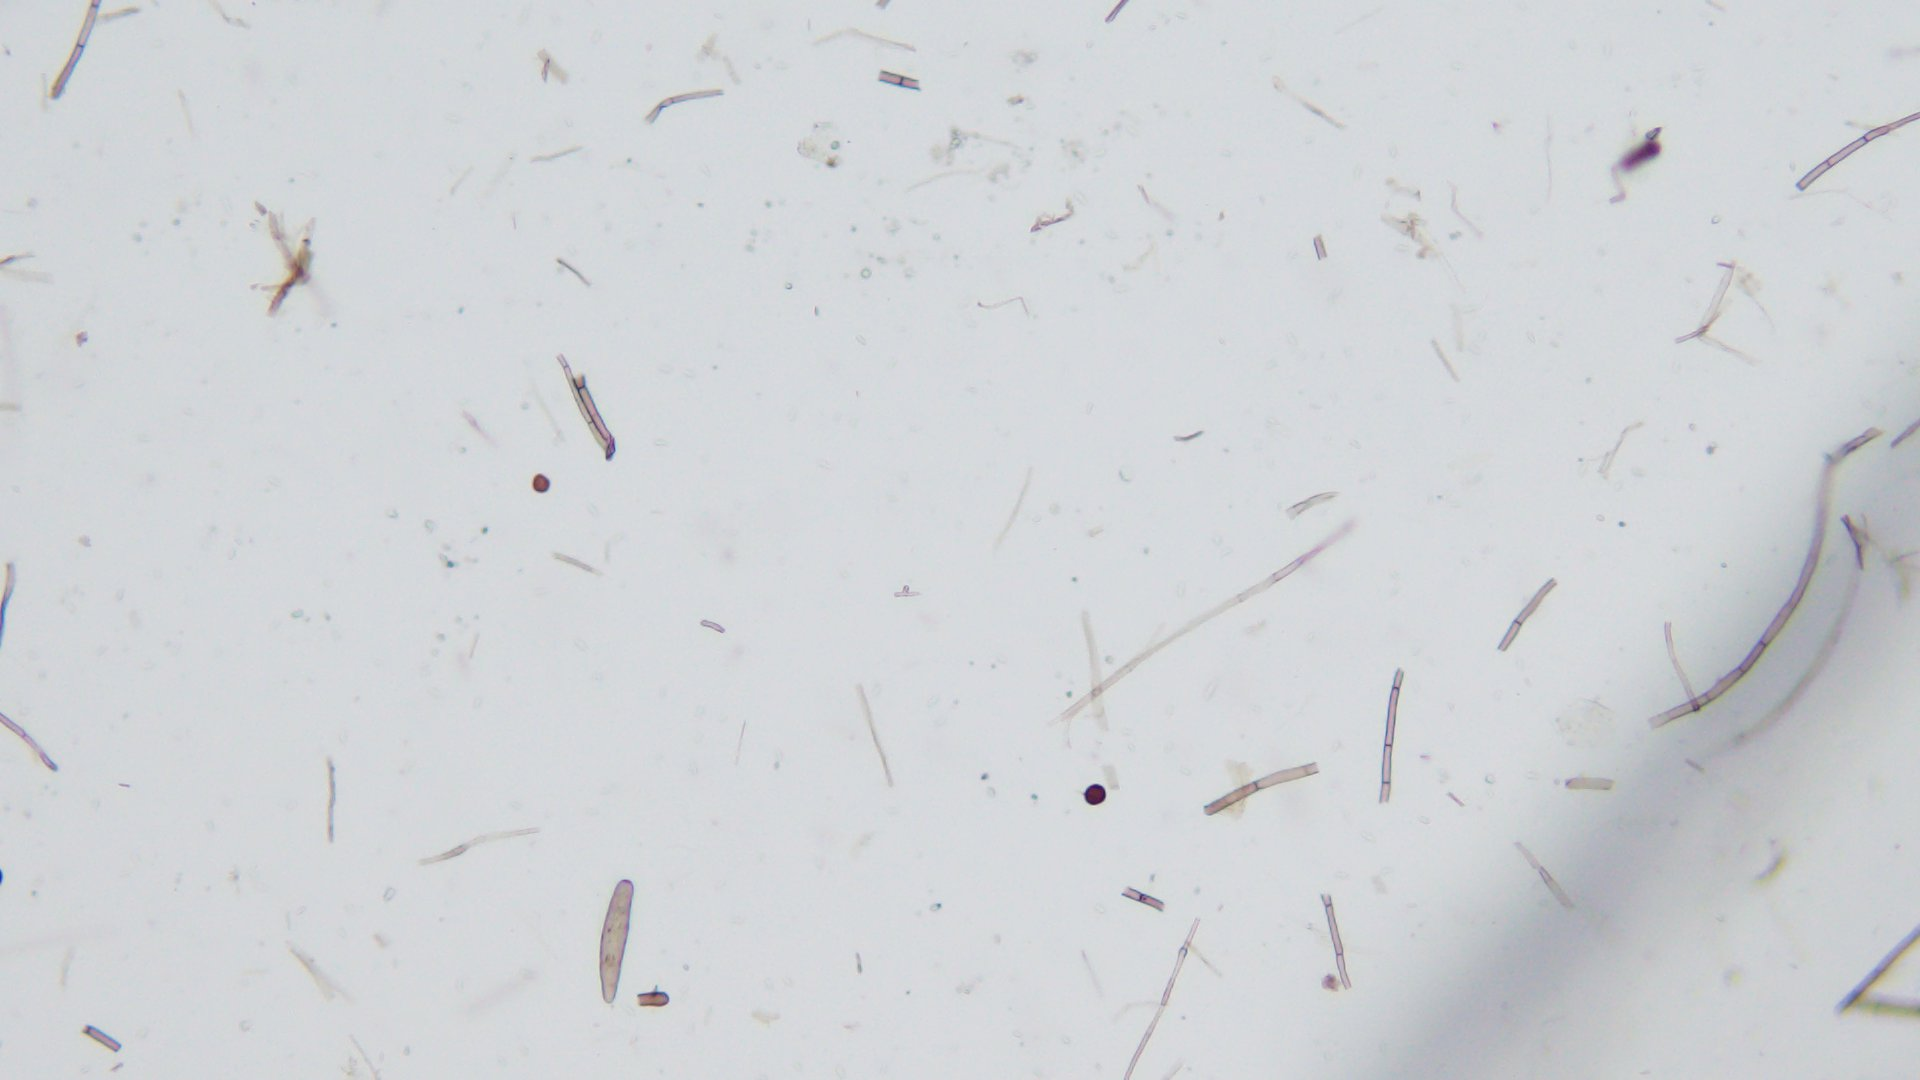dbb_spore: (596, 880, 630, 1005)
shs_spore: (1081, 785, 1108, 804), (531, 473, 553, 495)
